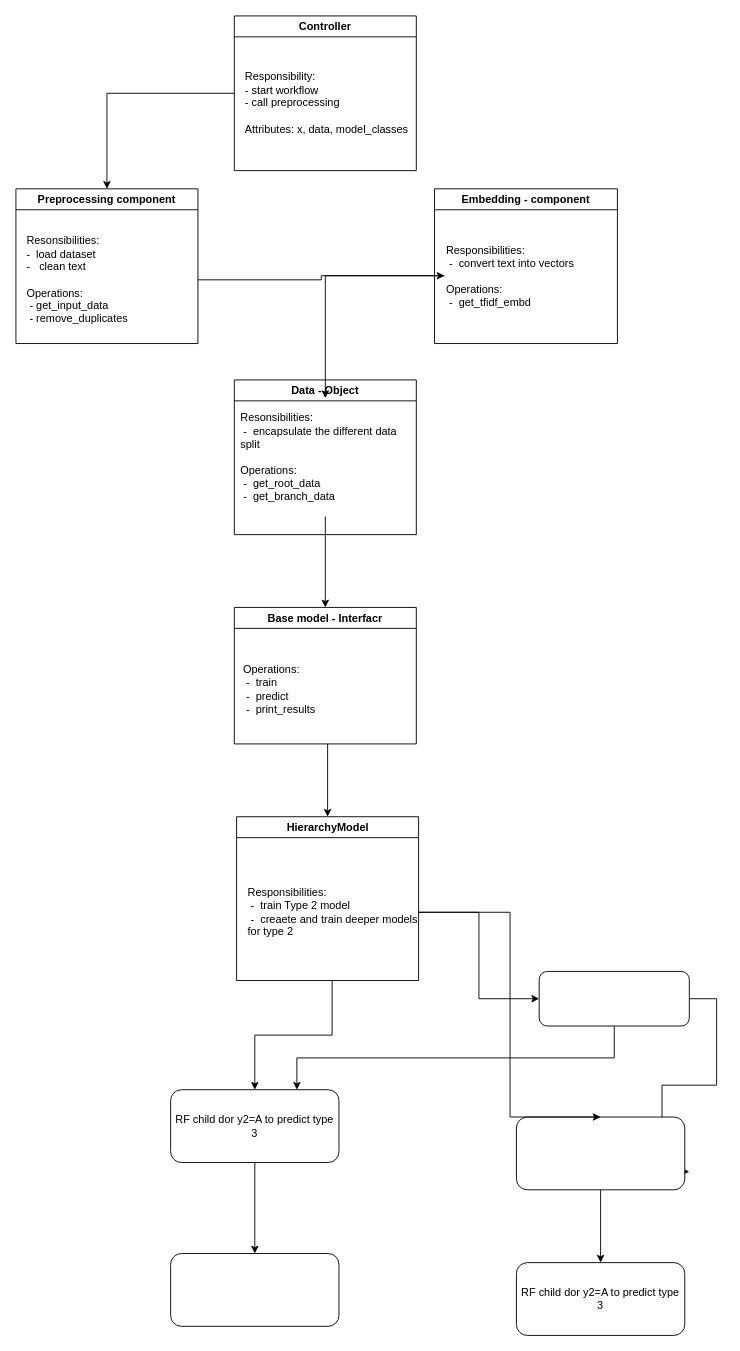
This 740x1351 diagram has some shape labels left out. Here are the shapes that lost their labels. From the top down, the centre of each, then its label:
the point at 613,998: Random forest rood predicts type 2
the point at 600,1153: RF child for y2=A To predict Type 3
the point at 254,1289: RF grandchild for type 4c
